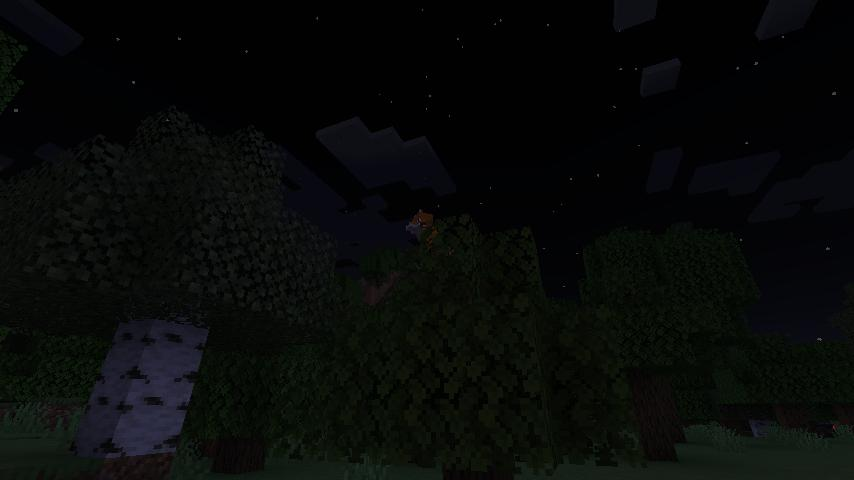fox: (404, 206, 450, 257)
spider: (810, 422, 839, 439)
